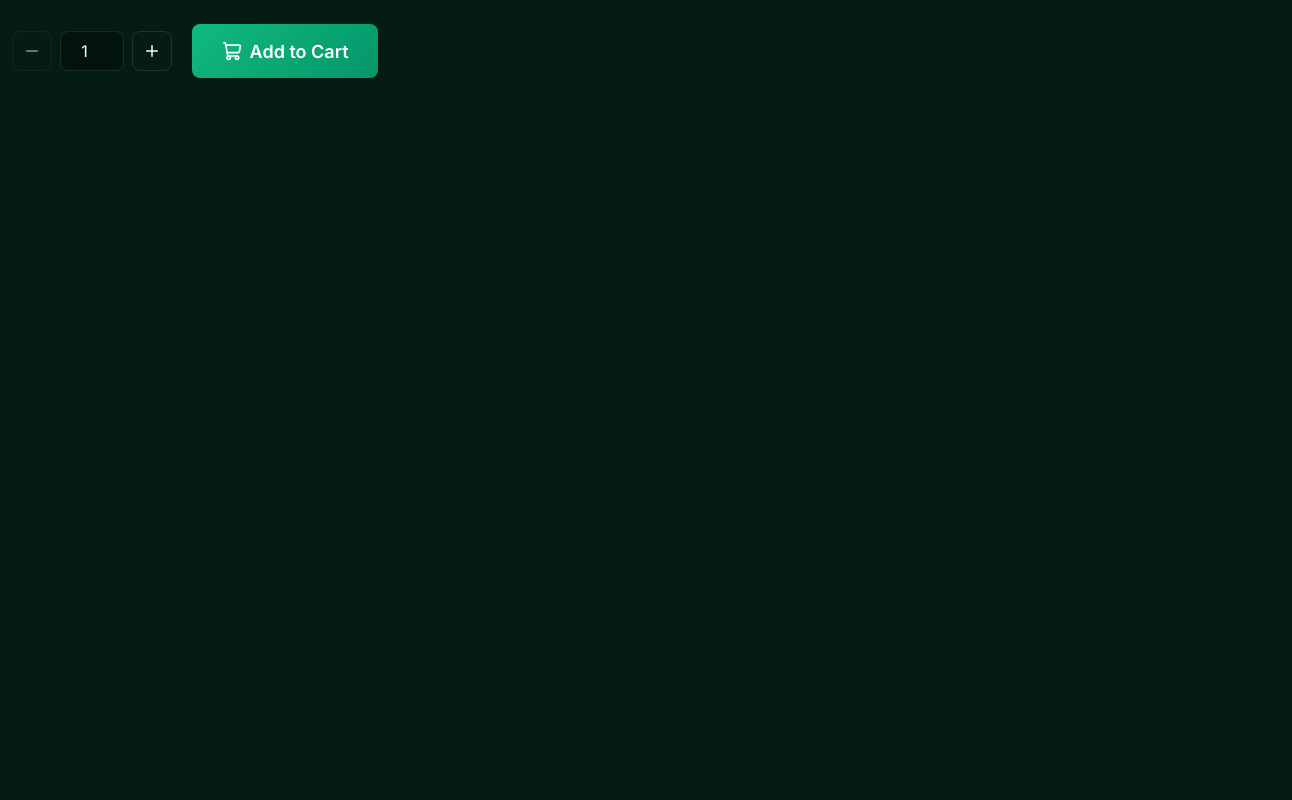
Test: ProductActions — Add to Cart (FD-10) › surfaces an unauthorized response without a success claim
Click the button "Add to Cart". click: (285, 51)
box: x1=192 y1=24 x2=378 y2=78
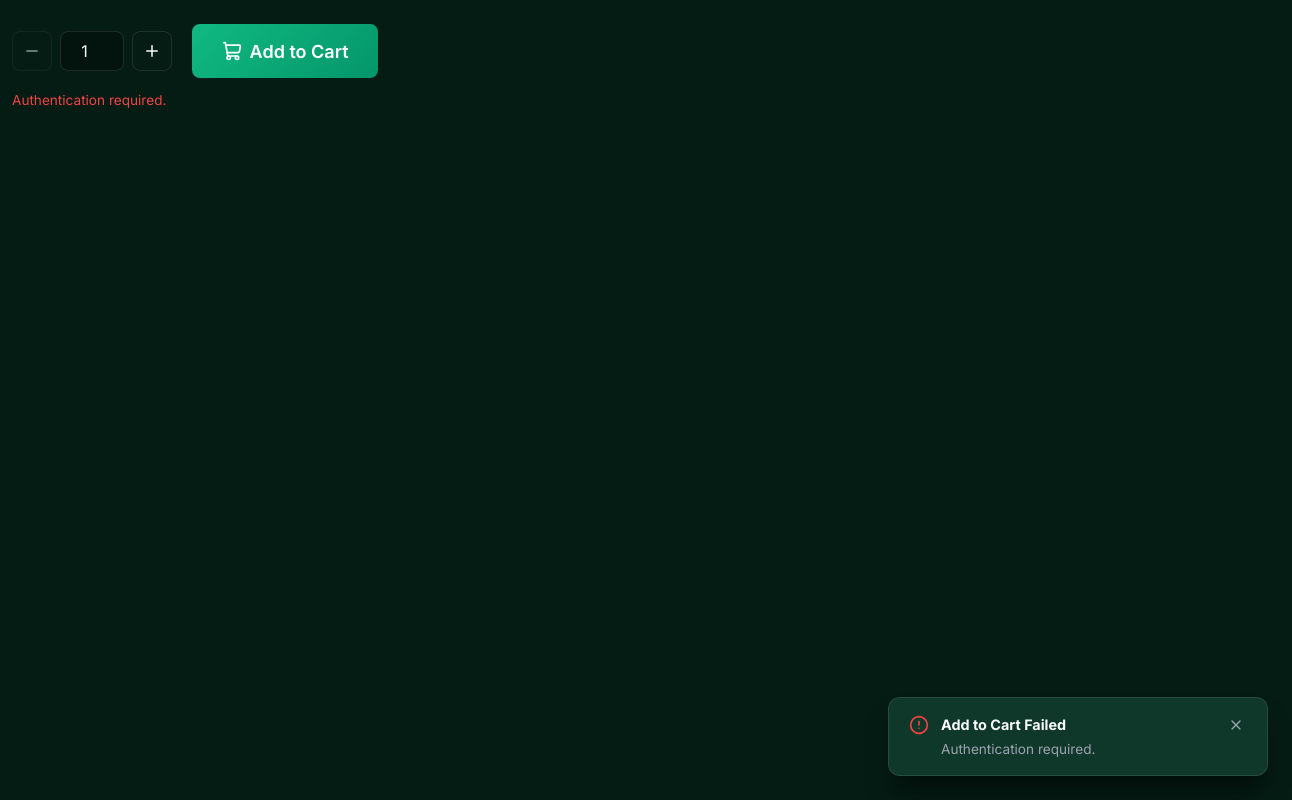
Expected: the message with test id "add-to-cart-error" reads "Authentication required.", x1=12 y1=92 x2=166 y2=108
